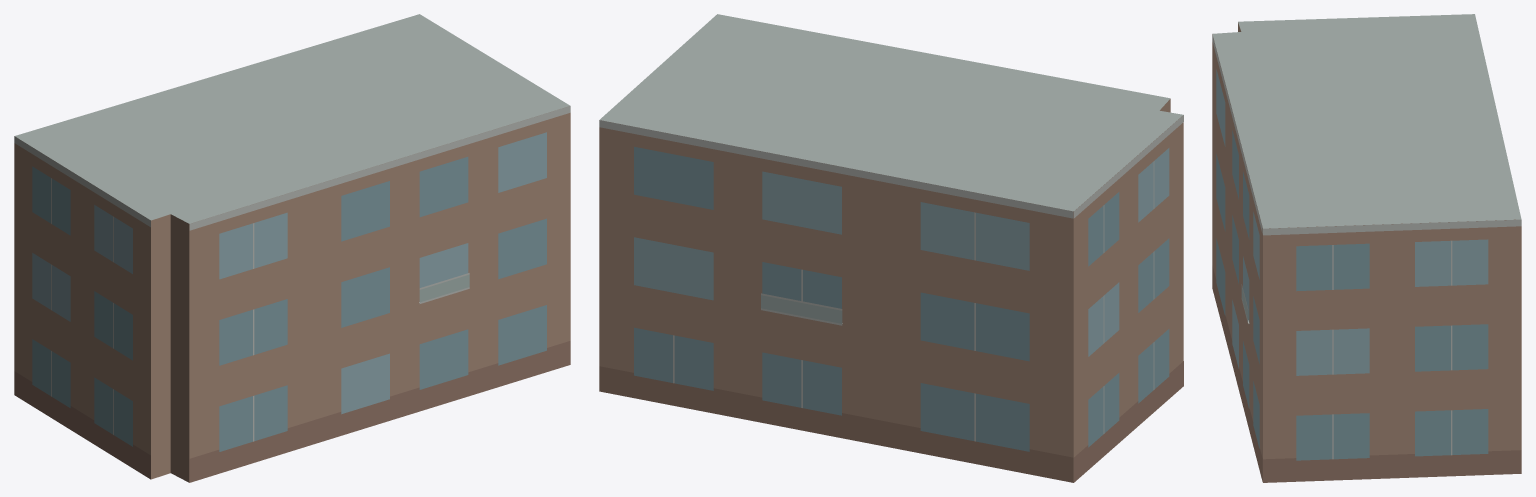
Rendered from survey-upis-32610780.glb.
The picture shows the model from 3 angles, left to right: view 1: azimuth 30°, elevation 25°; view 2: azimuth 150°, elevation 25°; view 3: azimuth 270°, elevation 25°; orthographic projection. The views are drawn at different scales.
Parts seen in each view (by area): view 1: survey-upis-32610780.tmp; view 2: survey-upis-32610780.tmp; view 3: survey-upis-32610780.tmp.
Boxes of the visible parts, box(x1,y1,x2,y2) form: survey-upis-32610780.tmp: box(14, 14, 570, 482); survey-upis-32610780.tmp: box(599, 14, 1183, 482); survey-upis-32610780.tmp: box(1212, 14, 1521, 482).
Bounding box in the file's own units: 16.58 × 9.15 × 10.1.
